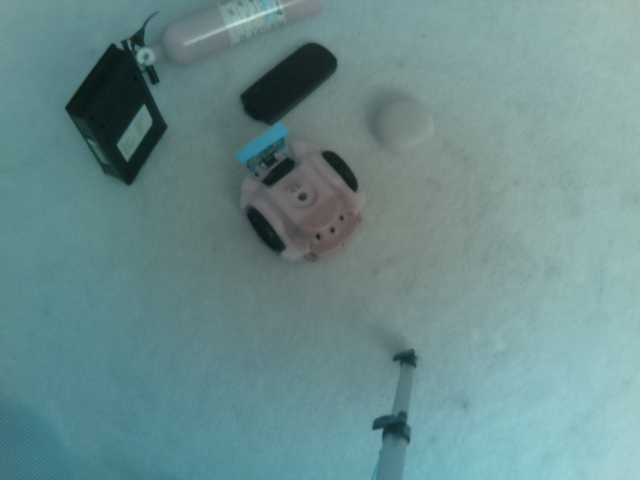board: (232, 119, 291, 172)
chassis: (229, 122, 368, 267)
